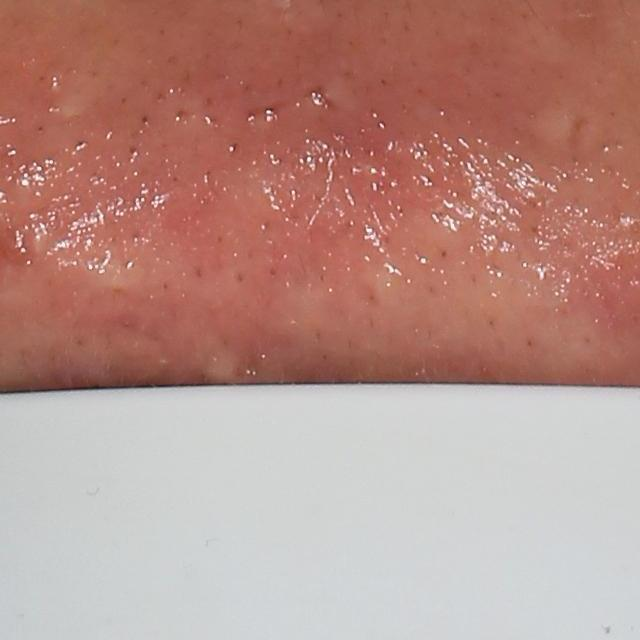atrophic_scar: (304, 82, 342, 112), (566, 112, 586, 163)
hypertrophic_scar: (248, 230, 604, 365), (193, 155, 307, 238), (34, 241, 178, 303), (175, 326, 252, 382), (54, 81, 95, 123), (531, 108, 576, 145)
